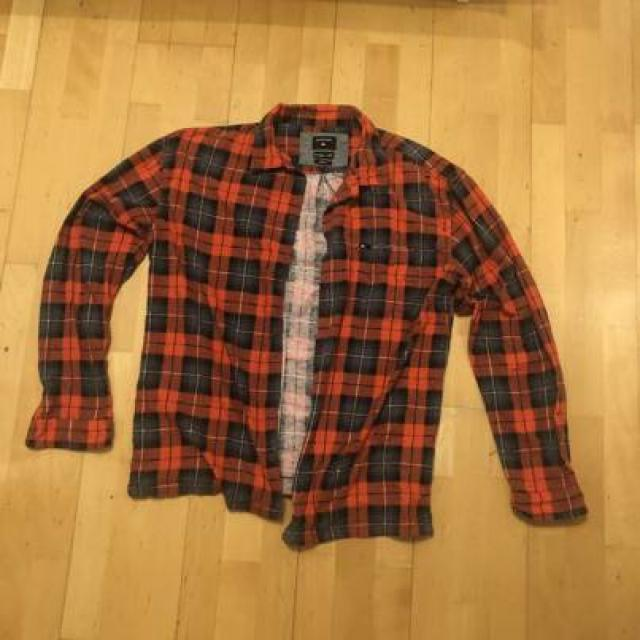Clothes -Biodegradable-: (21, 99, 590, 548)
